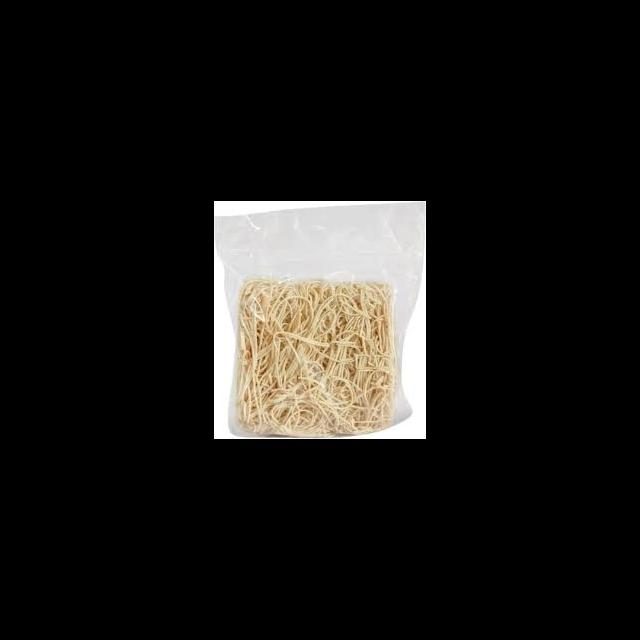noodles: (221, 210, 426, 439)
